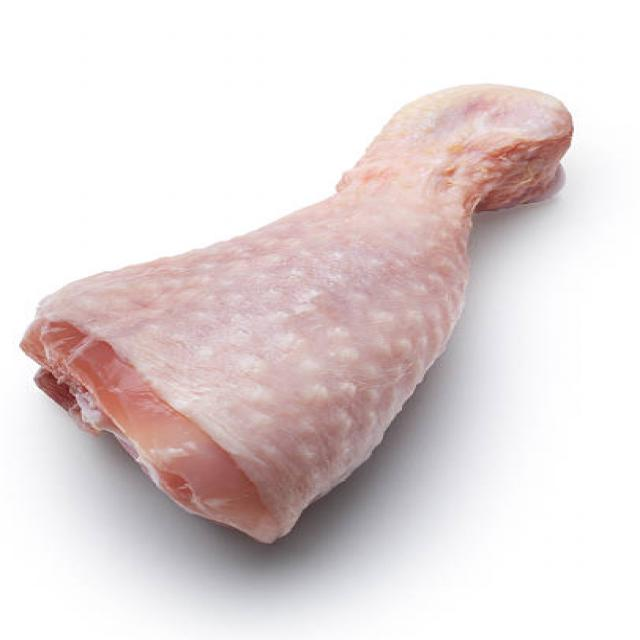Chicken Thigh: (22, 75, 594, 548)
